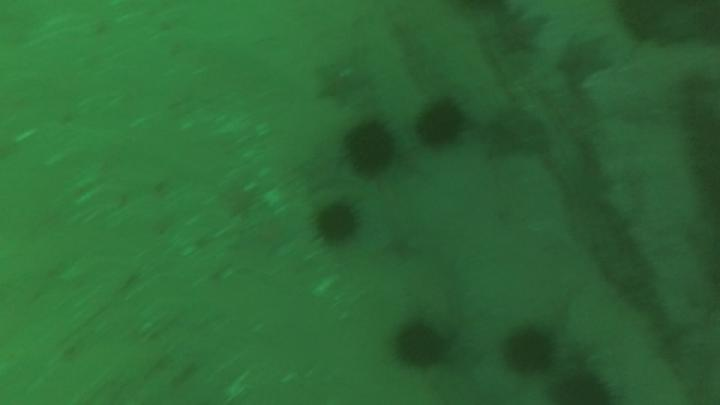echinus: (388, 312, 462, 376), (497, 314, 563, 383), (407, 92, 473, 156), (341, 118, 402, 182), (309, 190, 366, 256), (547, 361, 618, 403)
starfish: (482, 104, 558, 166), (552, 28, 618, 92), (493, 12, 553, 59), (317, 57, 369, 110)
